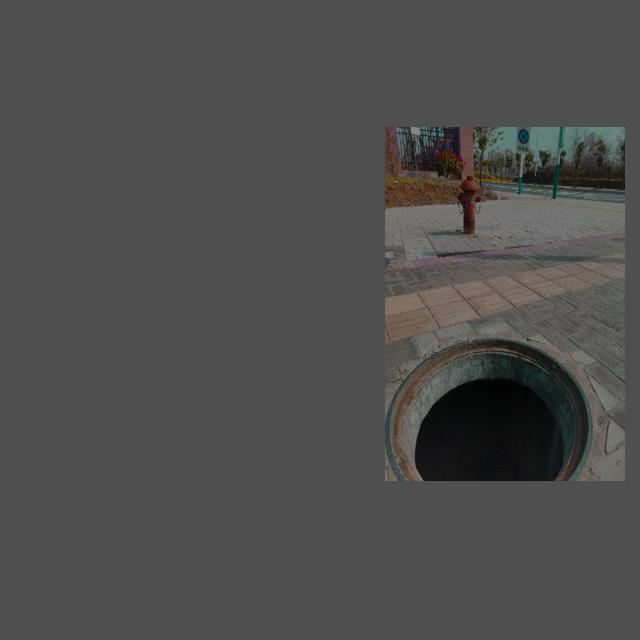lose: (385, 337, 592, 478)
